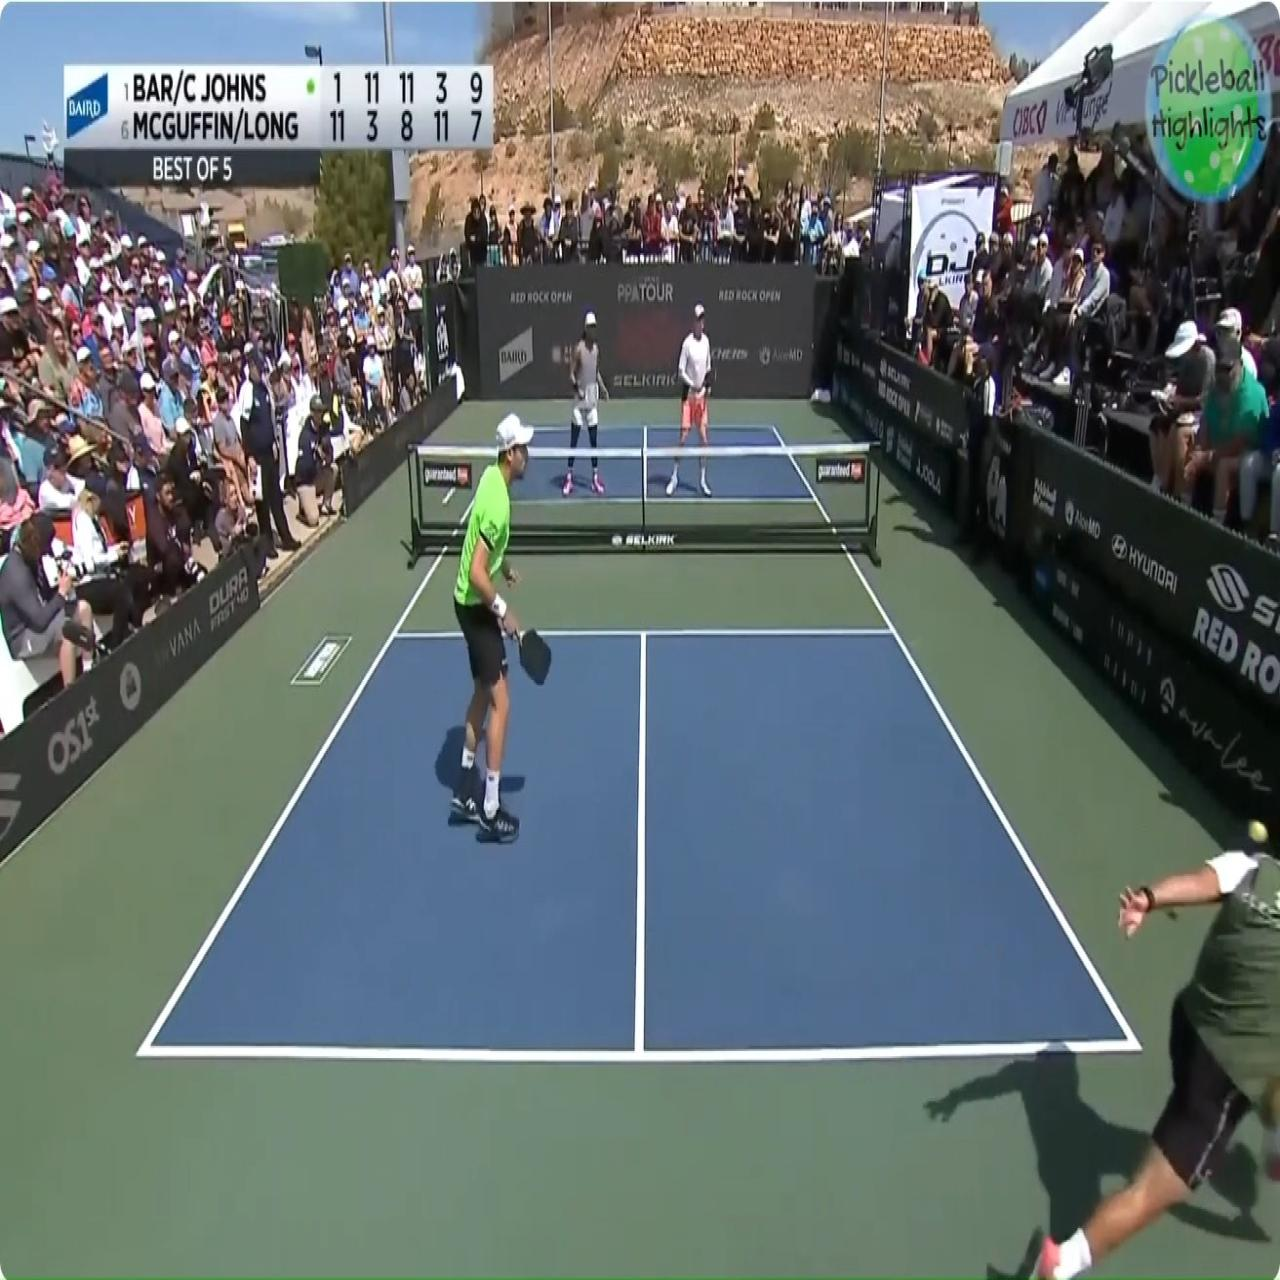pickleball: (1248, 821, 1268, 843)
